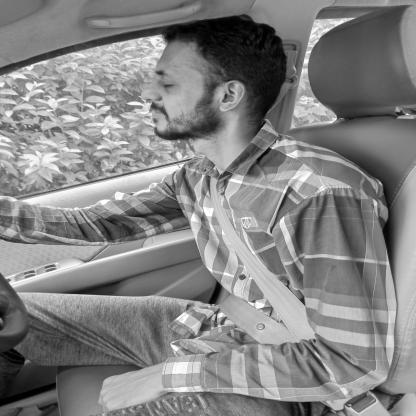seatbelt: (120, 21, 329, 264)
